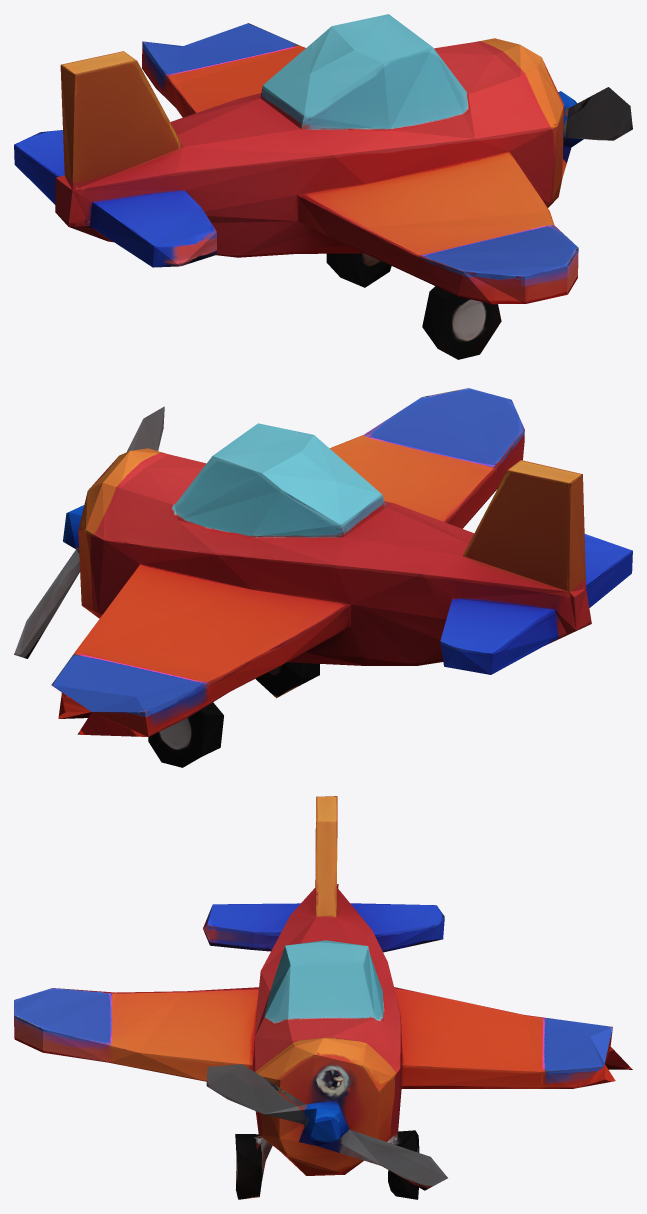
3 views of the same model, one above another, from view 1: azimuth 30°, elevation 25°; view 2: azimuth 150°, elevation 25°; view 3: azimuth 270°, elevation 25° (orthographic). The views are drawn at different scales.
Visible parts, largest first — view 1: Figure; view 2: Figure; view 3: Figure.
Part boxes in pixels (box(x1,y1,x2,y2)): Figure: box(14, 14, 632, 359); Figure: box(14, 388, 632, 767); Figure: box(14, 796, 632, 1199).
Size of the model in its own units: 0.4263 by 0.264 by 0.5541.
Materials: 1 (1 with a texture image).
